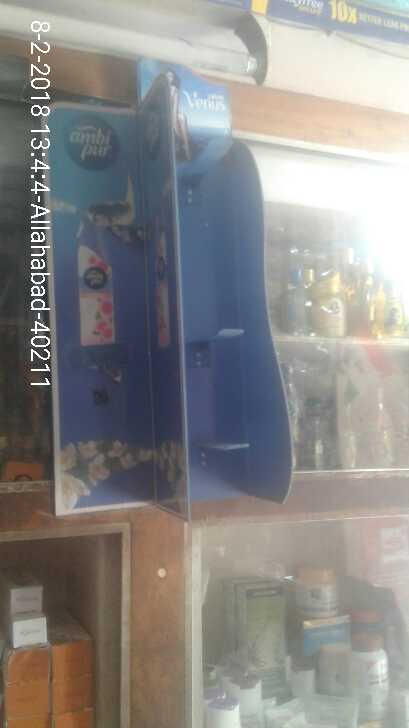reject: (171, 225, 253, 298)
